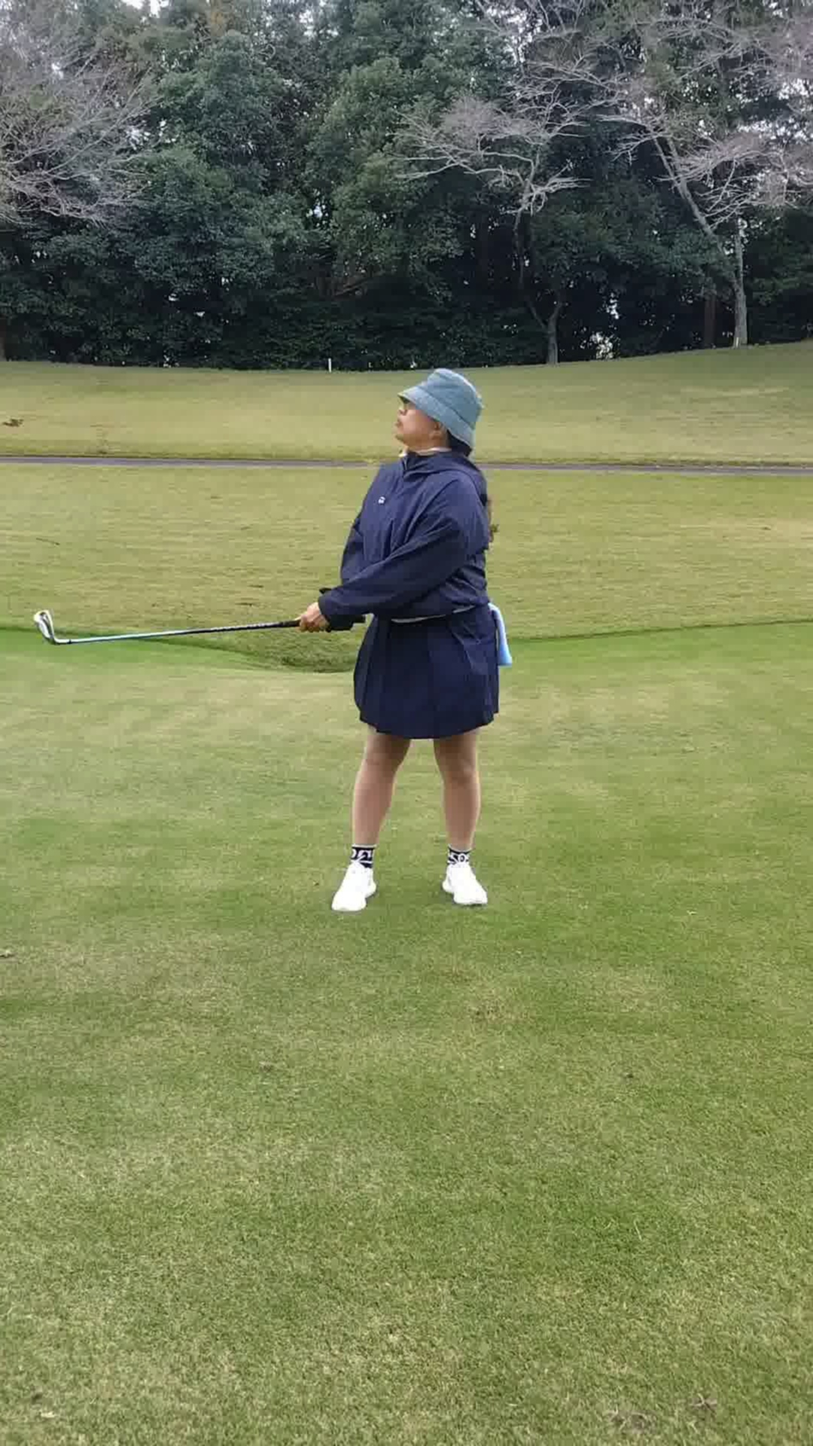clubhead: (37, 551, 86, 725)
